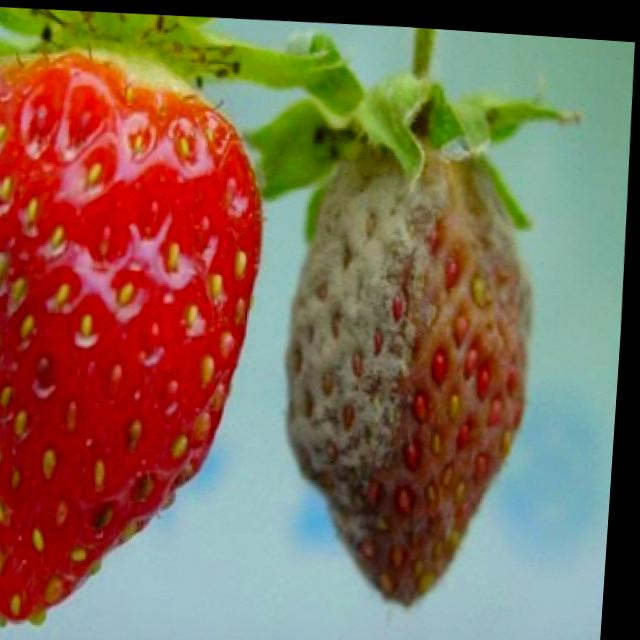Gray Mold: (289, 132, 537, 601)
